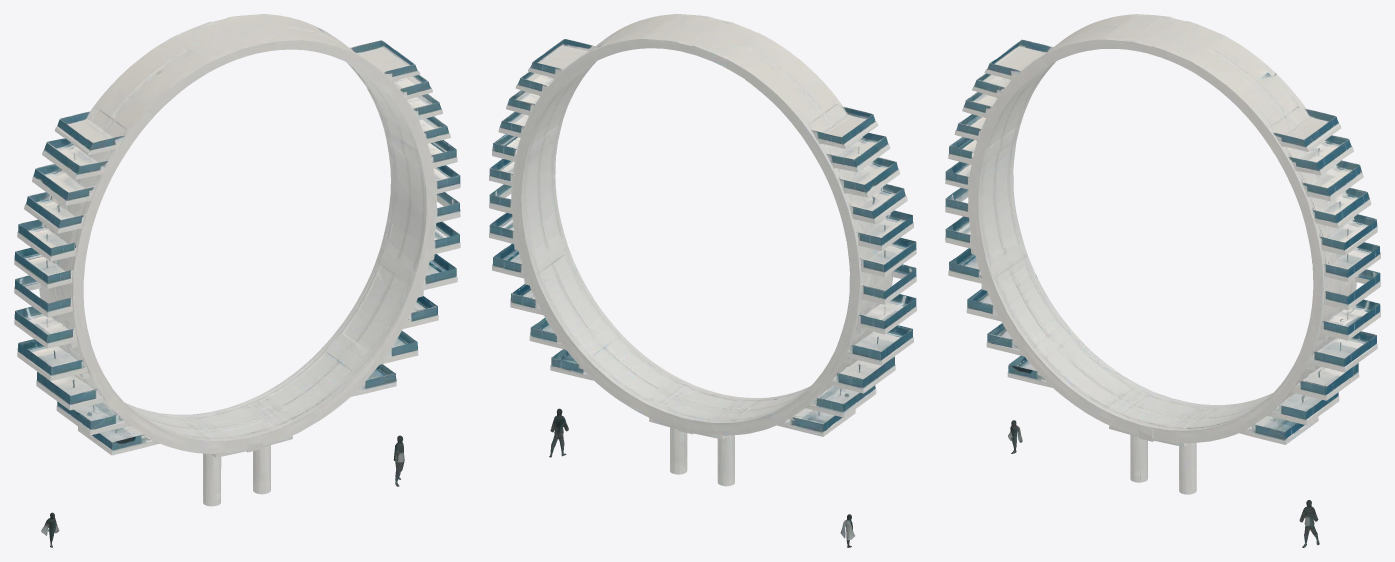
File: tower-crescent.glb
3 views of the same model, side by side, from view 1: azimuth 30°, elevation 25°; view 2: azimuth 150°, elevation 25°; view 3: azimuth 330°, elevation 25° (orthographic). The views are drawn at different scales.
Parts seen in each view (by area): view 1: Mesh_0; view 2: Mesh_0; view 3: Mesh_0.
Boxes of the visible parts, x1,y1,x2,y2 form: Mesh_0: (14, 14, 460, 547); Mesh_0: (489, 14, 916, 547); Mesh_0: (945, 14, 1380, 547).
Size of the model in its own units: 1.69 by 1.9 by 0.2759.
1 material, 1 textured.
